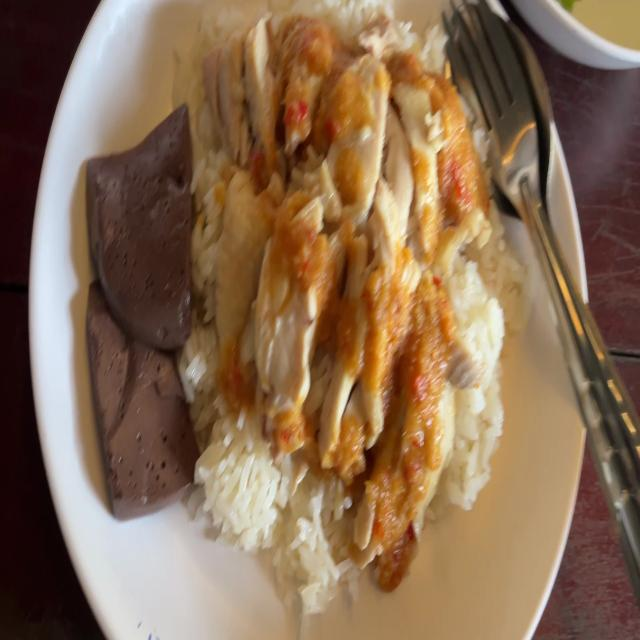chicken_rice: (226, 18, 462, 476)
noodle: (79, 281, 190, 517), (82, 100, 186, 343)
